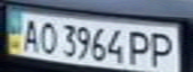3: (57, 21, 78, 57)
4: (106, 26, 130, 64)
6: (90, 25, 109, 62)
9: (72, 24, 93, 61)
A: (15, 16, 42, 53)
O: (36, 19, 60, 55)
P: (145, 29, 181, 70), (124, 28, 157, 66)
